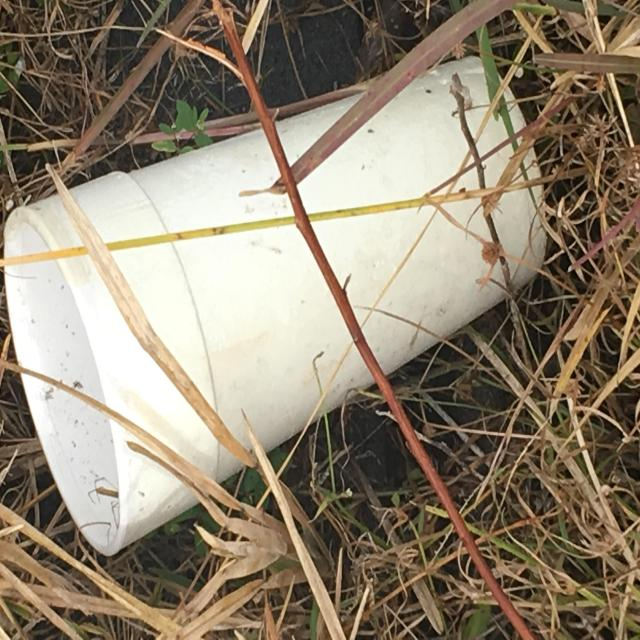litter: (4, 52, 548, 556)
